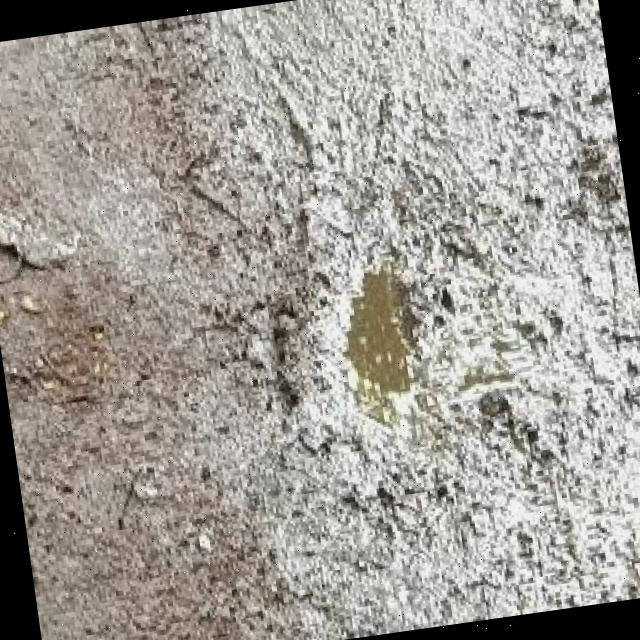waterlogging: (324, 254, 440, 406)
